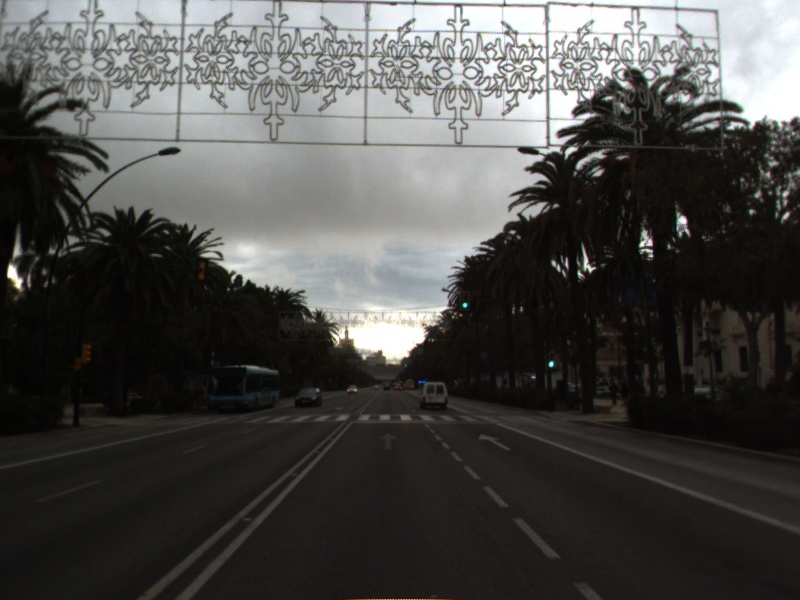STRAIGHT: (476, 432, 514, 452), (376, 430, 401, 452)
